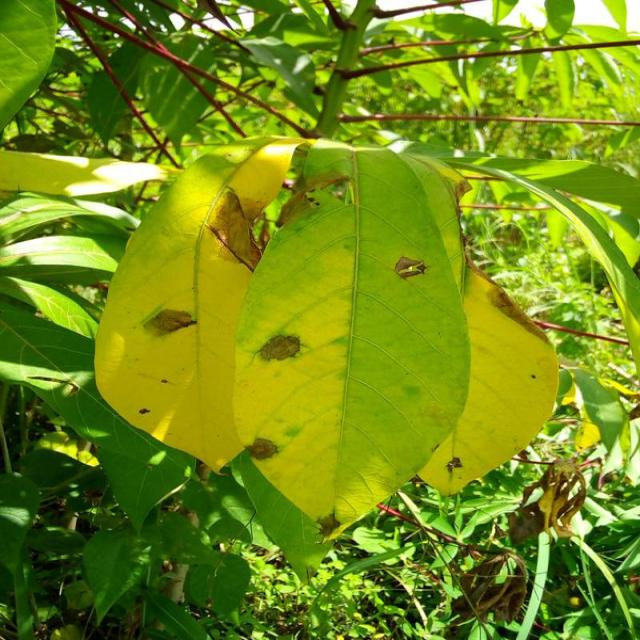cassava leaf: (229, 137, 473, 576), (92, 134, 310, 473), (414, 253, 560, 497)
